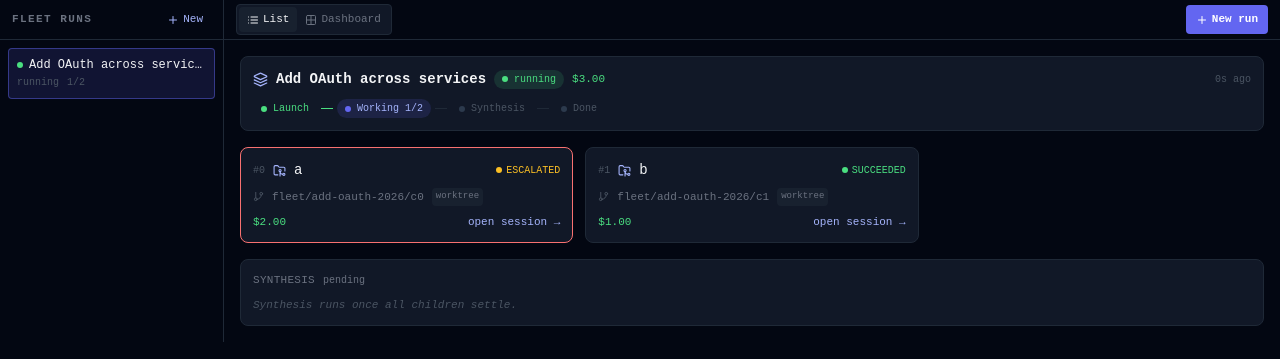
Test case: FleetTab › drills into the run detail when a dashboard card is clicked (without persisting list view)
The width and height of the screenshot is (1280, 359).
Click the button "Dashboard" at (343, 20), box [297,7,389,32]
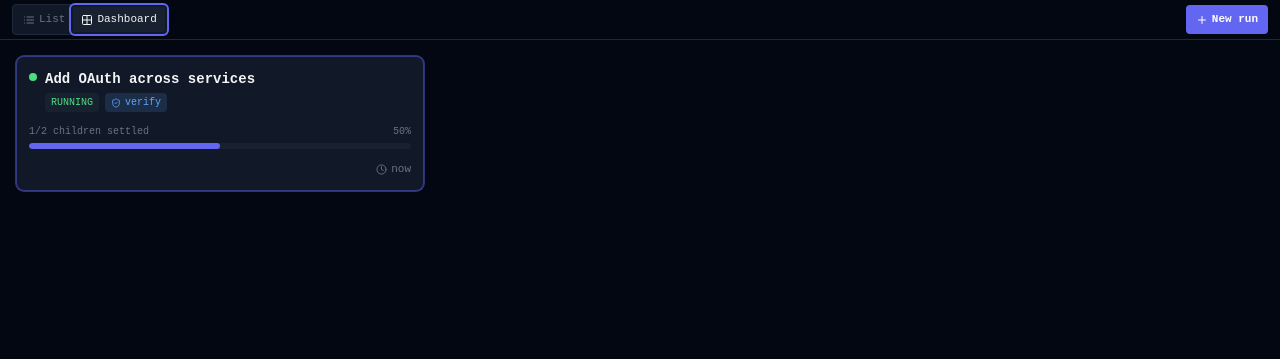
Click the button "Add OAuth across services" at (150, 79), box [16,56,424,190]
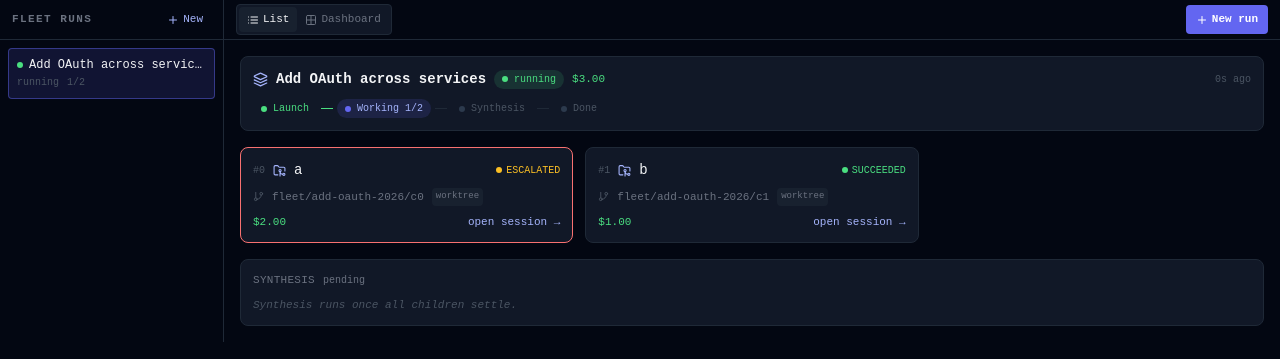
Expected: the element with test id "fleet-child-0" is shown, [240,147,573,243]
